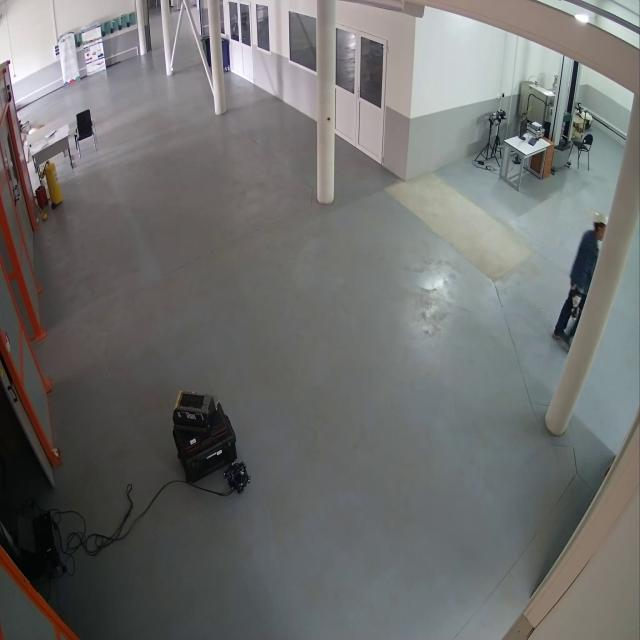Hardhat: (594, 209, 608, 229)
Person: (550, 203, 606, 352)
